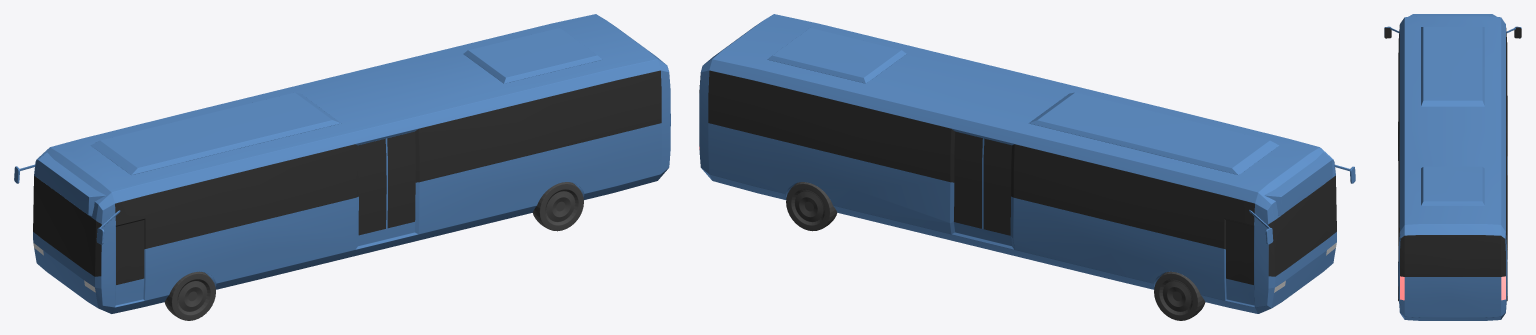
The model's file is buss1.fbx.
3 renders of one model, left to right at view 1: azimuth 30°, elevation 25°; view 2: azimuth 150°, elevation 25°; view 3: azimuth 270°, elevation 25°, orthographic. The views are drawn at different scales.
Parts seen in each view (by area): view 1: Cube.139; view 2: Cube.139; view 3: Cube.139.
Boxes of the visible parts, x1=… form: Cube.139: x1=14, y1=14, x2=670, y2=320; Cube.139: x1=699, y1=14, x2=1355, y2=320; Cube.139: x1=1384, y1=14, x2=1521, y2=320.
Size of the model in its own units: 1755 by 436 by 460.
